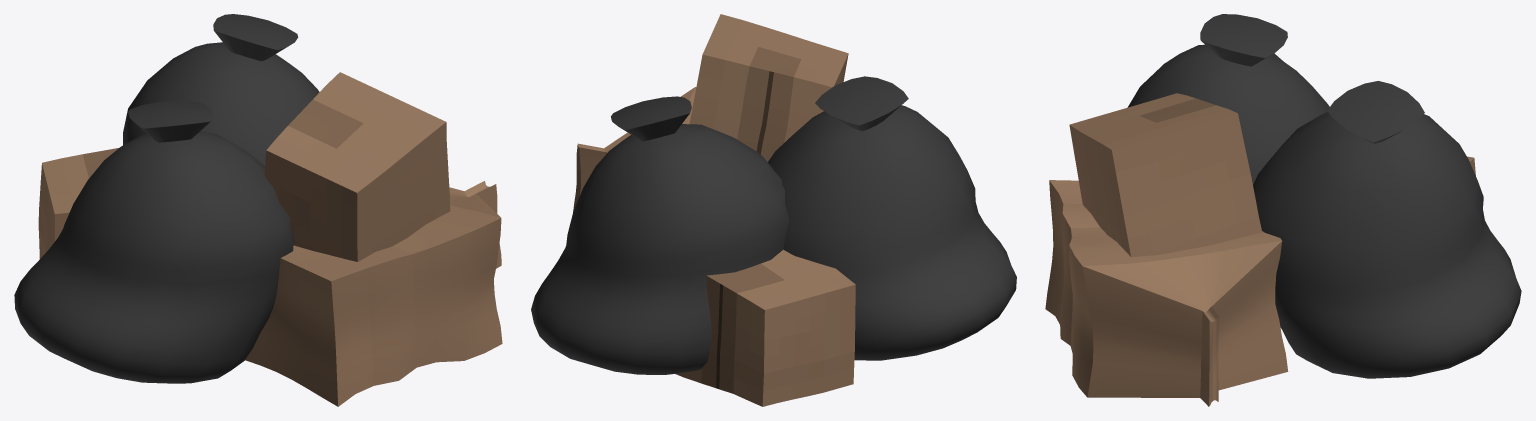
The model's file is dechets1.glb.
The picture shows the model from 3 angles, left to right: view 1: azimuth 30°, elevation 25°; view 2: azimuth 150°, elevation 25°; view 3: azimuth 270°, elevation 25°; orthographic projection. The views are drawn at different scales.
Parts seen in each view (by area): view 1: Cube.028; view 2: Cube.028; view 3: Cube.028.
Part boxes in pixels (x1,y1,x2,y2): Cube.028: (14,14,502,406); Cube.028: (531,14,1016,406); Cube.028: (1045,14,1521,406).
Size of the model in its own units: 7.12 by 3.81 by 6.43.
